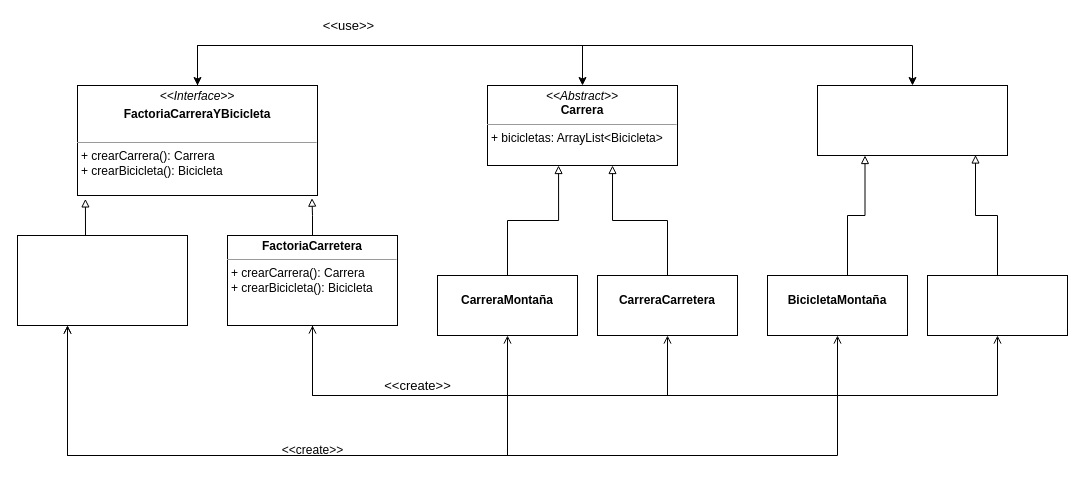
Image size: 1085x482. Some labels were removed from this diagram. The shapes that lost their labels are listed below. From the top down, each one's centre as x and y in pixels, then its label:
(x=912, y=120): <<Abstract>> Bicicleta + id_bicicleta: int
(x=102, y=280): FactoriaMontaña + crearCarrera(): Carrera + crearBicicleta(): Bicicleta
(x=997, y=305): BicicletaCarretera
